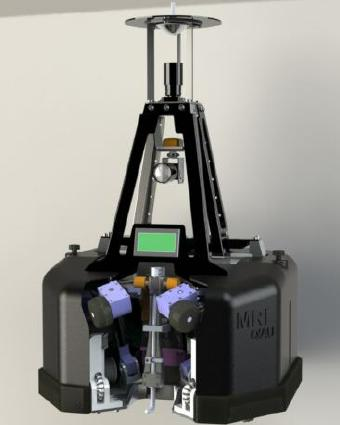robot: (37, 13, 305, 424)
